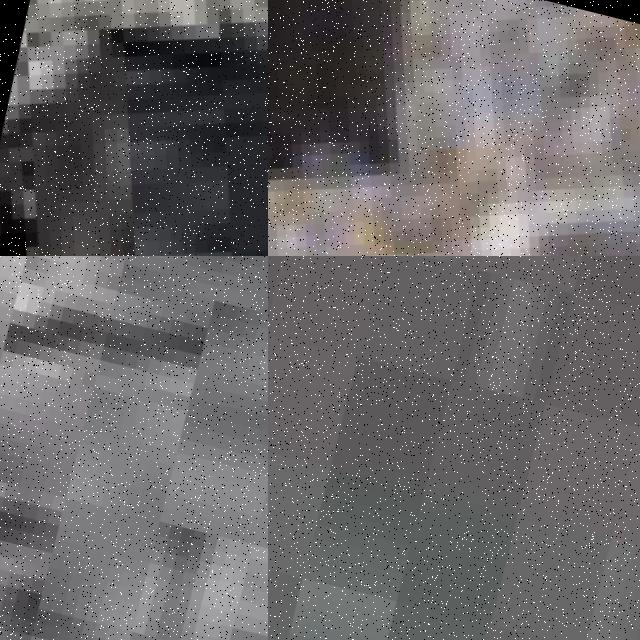drone: (268, 0, 640, 256), (0, 0, 268, 256)
